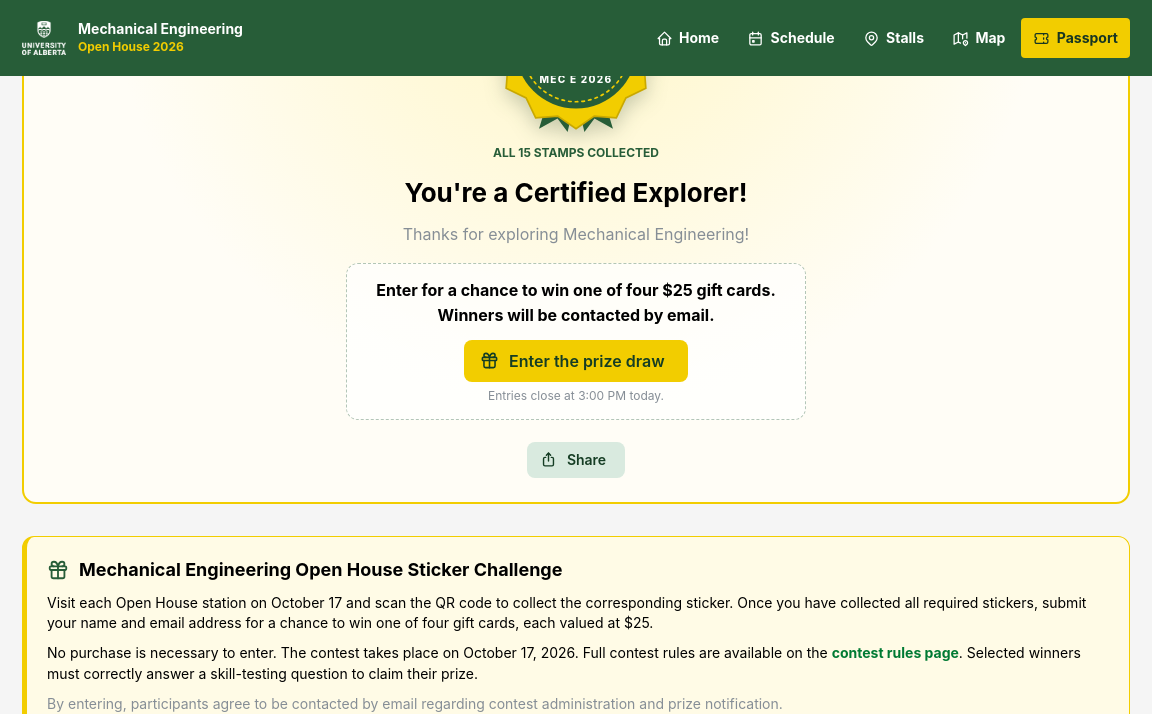
Test: prize draw entry › enters a completed passport in the draw
(page scrolled)
Check: the text "chance to win one of four $25 gift cards" is shown, box [376,280,776,325]
Step 1. Click the button "Enter the prize draw" → (576, 361), box [464,340,688,382]
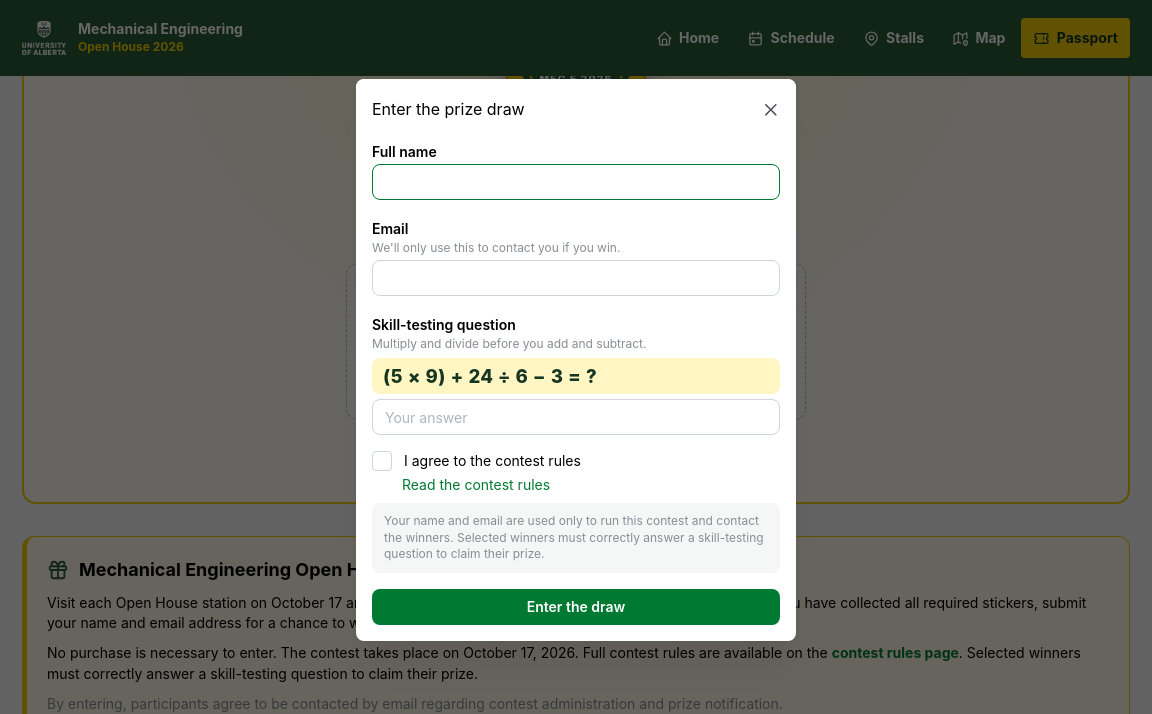
Step 2. Type "Alex Rivera" into the field labelled "Full name" → (576, 182), box [372,164,780,200]
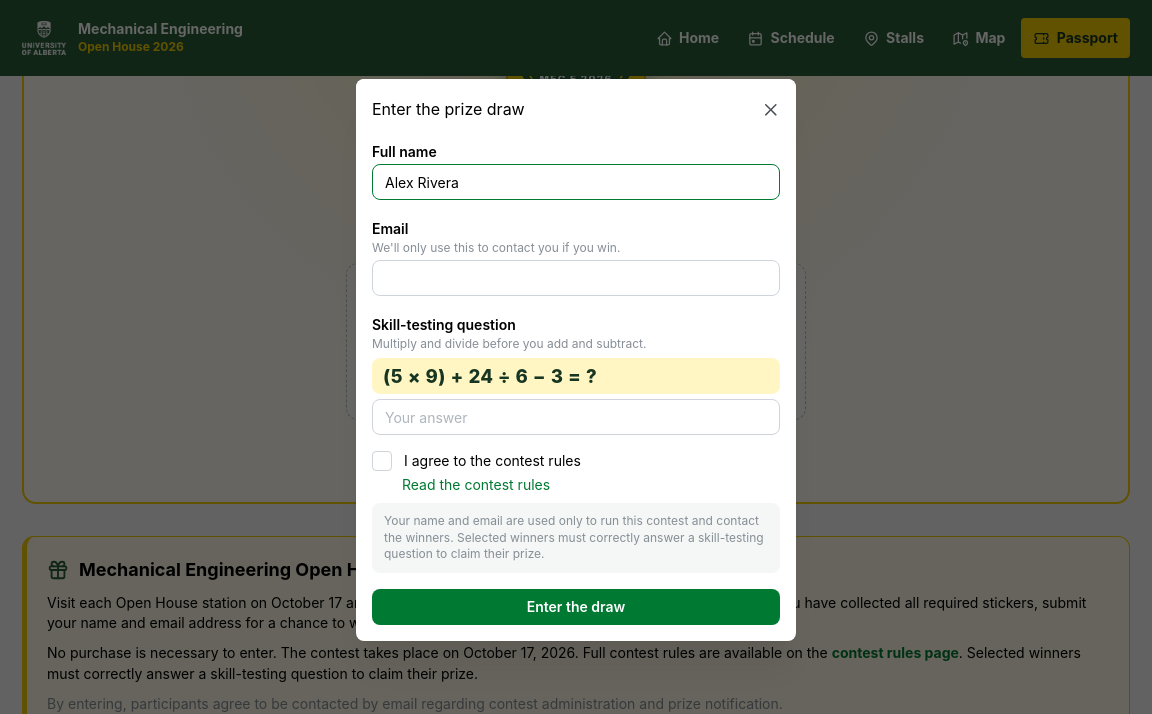
Step 3. Type "alex@example.com" into the field labelled "Email" → (576, 278), box [372,260,780,296]
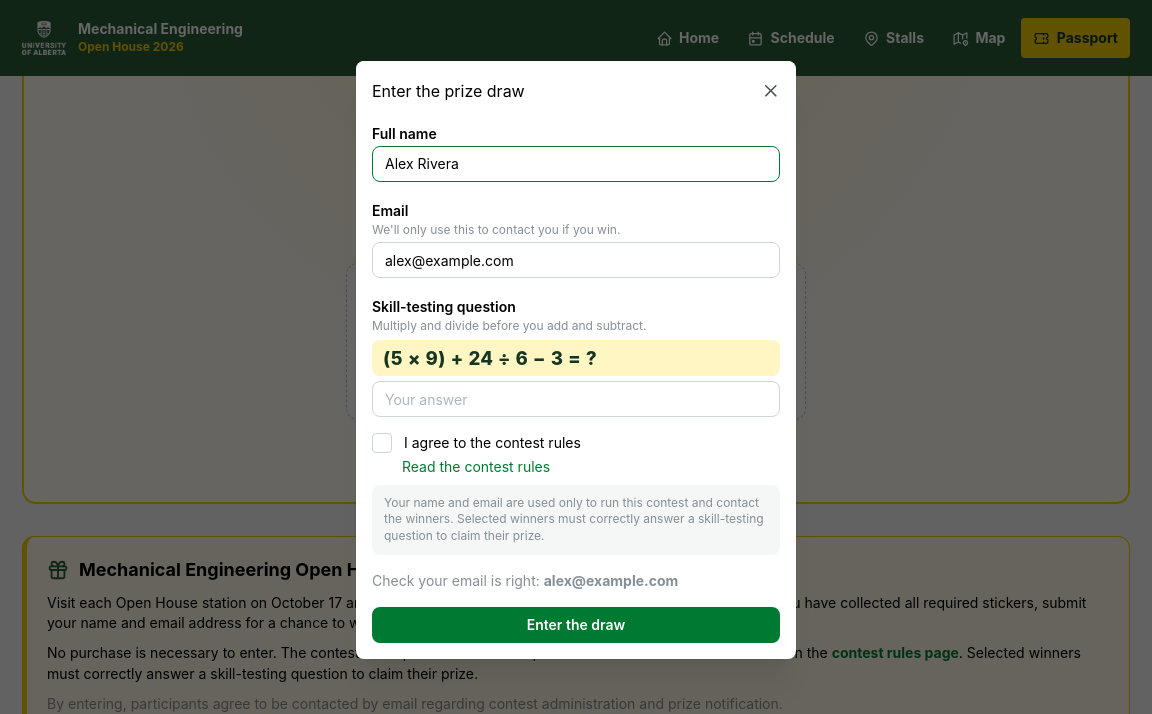
Step 4. Type "46" into the field labelled "Skill-testing question" → (576, 399), box [372,381,780,417]
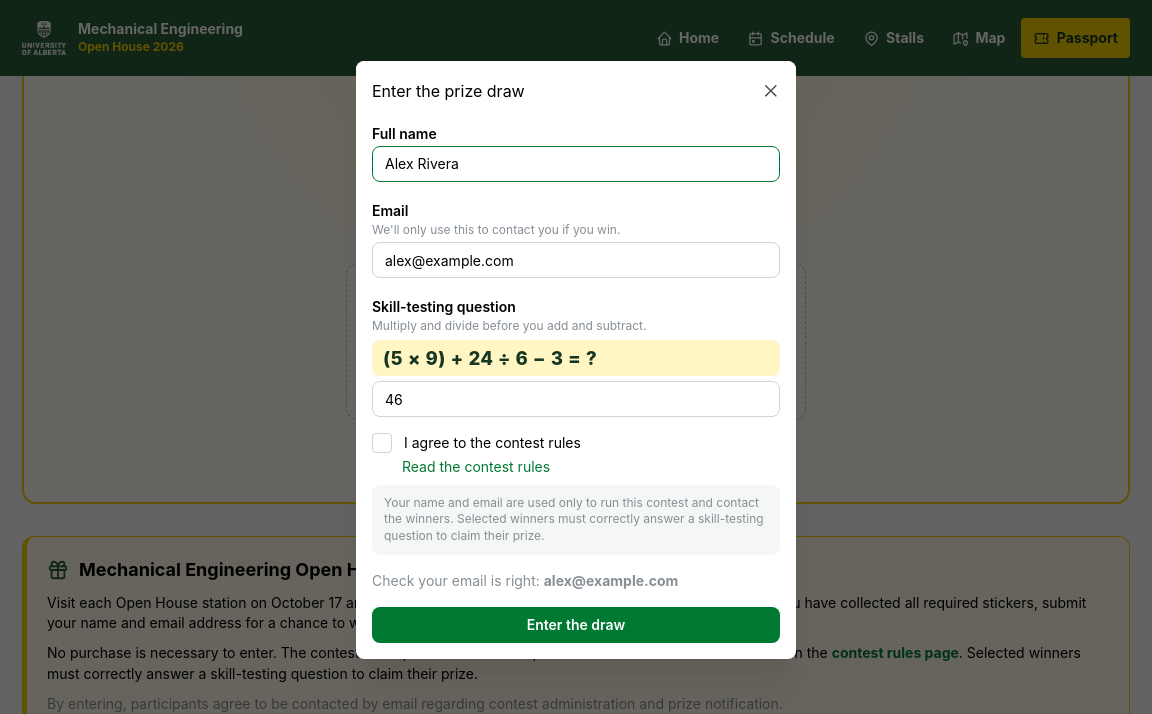
Step 5. Click the checkbox labelled "I agree to the contest rules" → (382, 443), box [372,433,392,453]
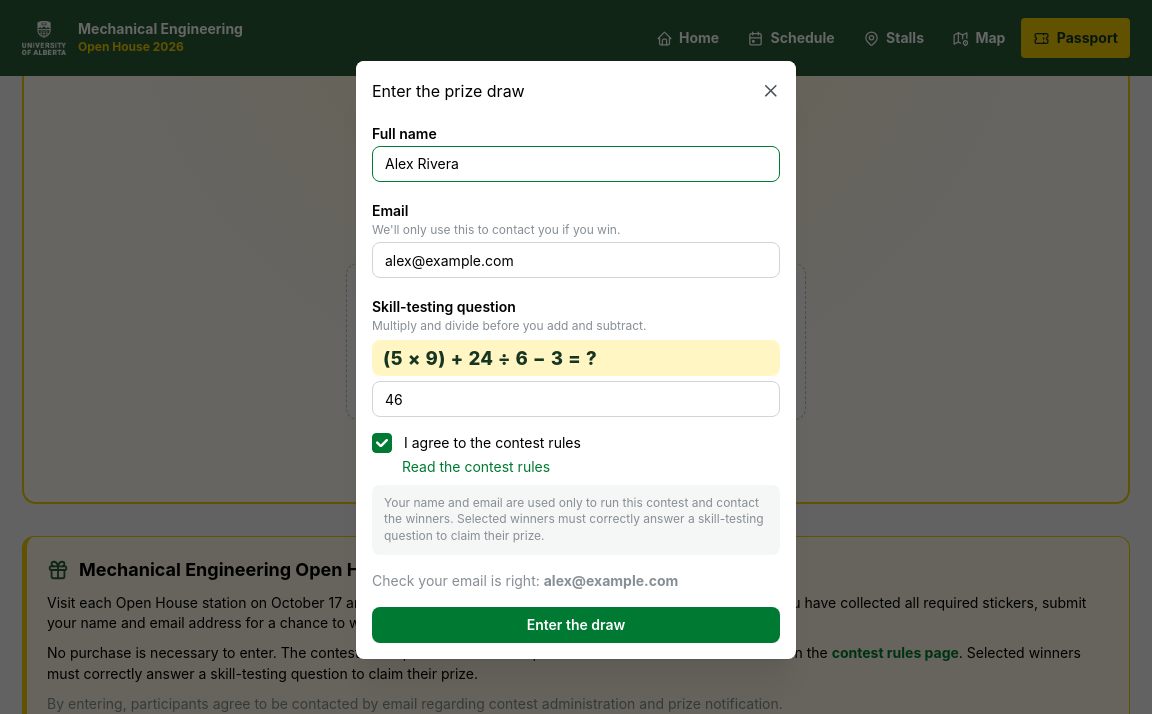
Step 6. Click the button "Enter the draw" → (576, 625), box [372,607,780,643]
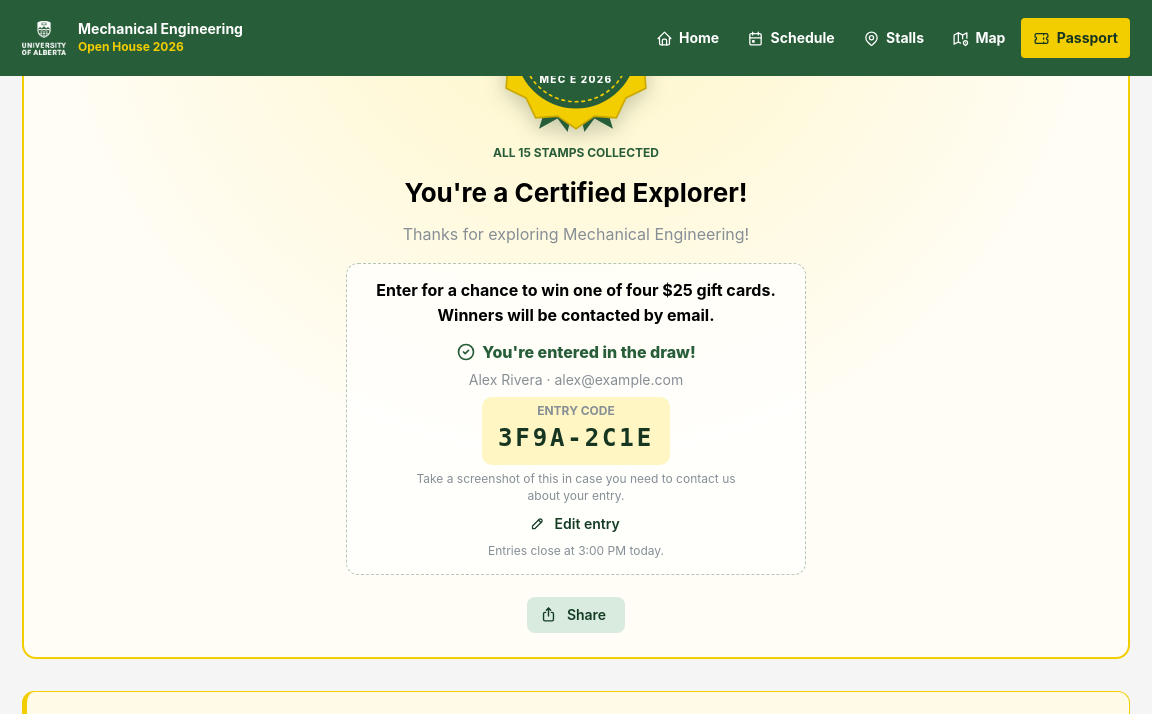
Check: the text "You're entered in the draw!" is shown, box [482,340,696,364]
Check: the text "3F9A-2C1E" is shown, box [498,420,654,457]
Check: the text "Take a screenshot of this" is shown, box [416,471,736,503]
